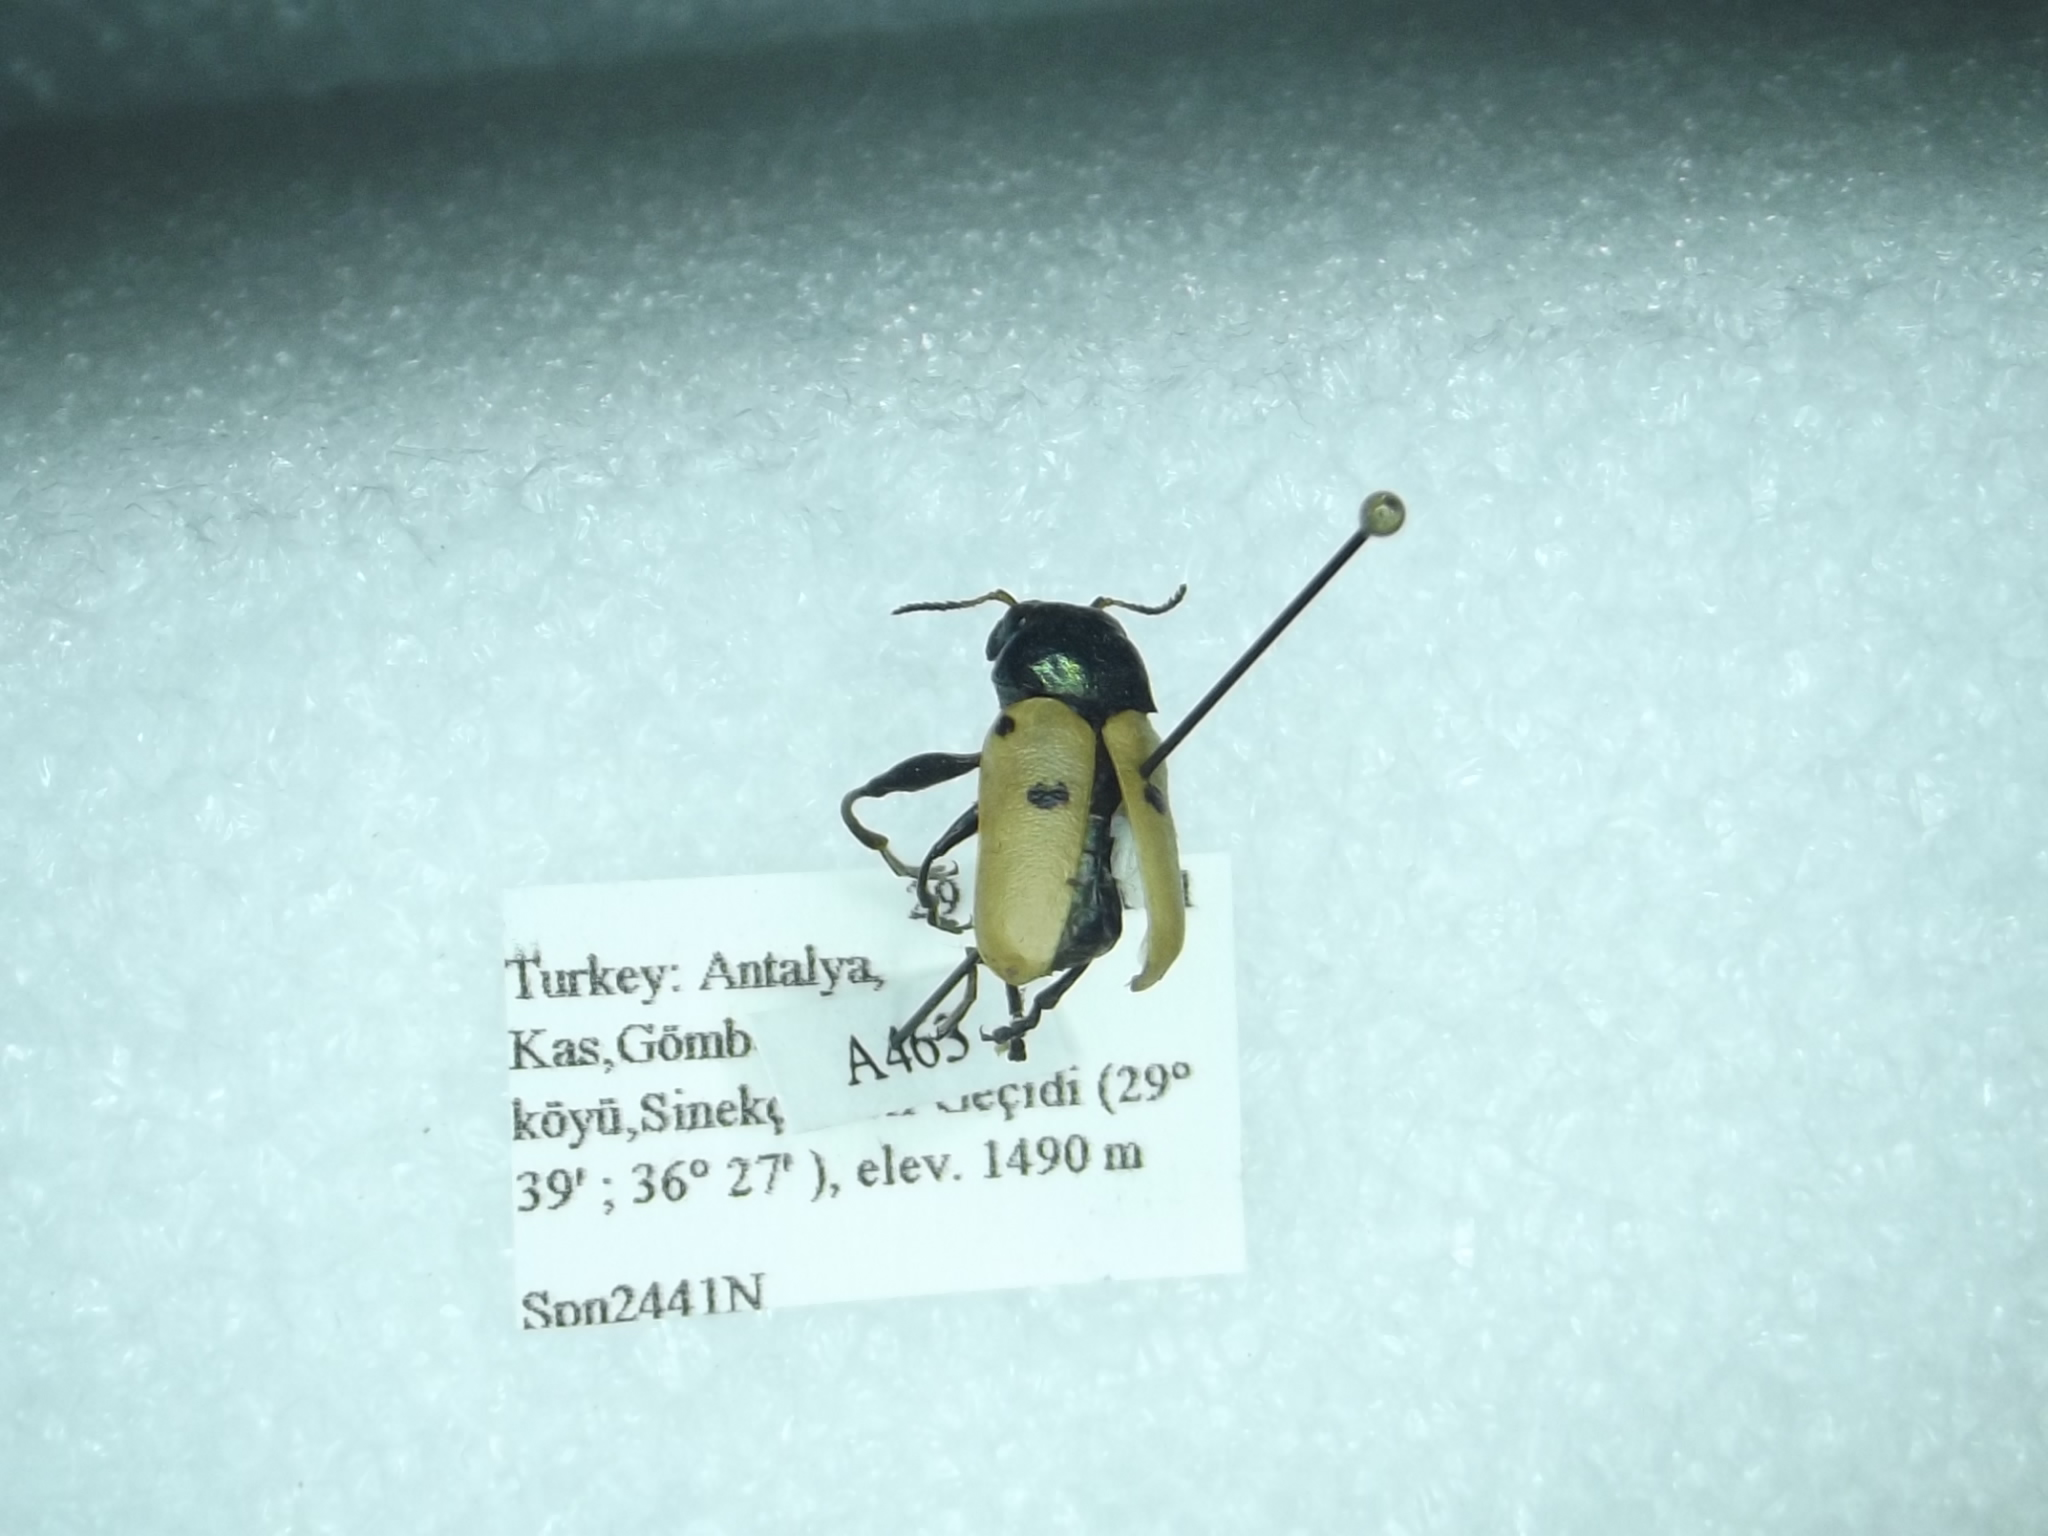Labidostomis_maculipennis: (821, 561, 1213, 1083)
